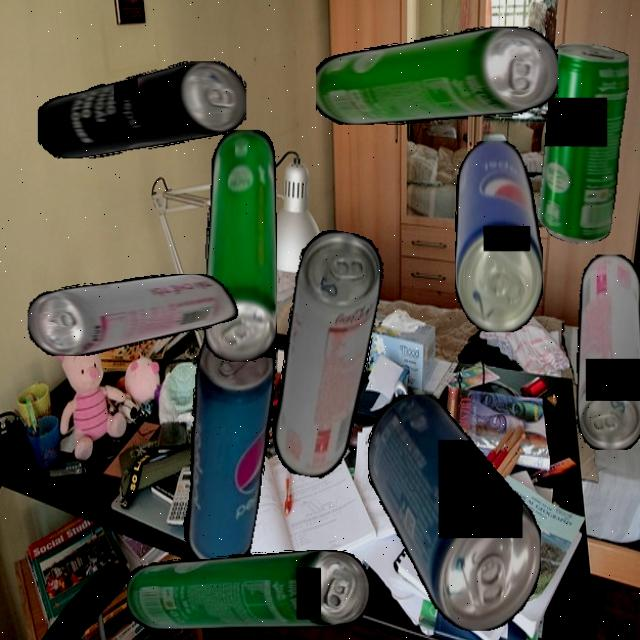debris: (367, 394, 541, 630), (262, 226, 390, 482), (165, 318, 288, 569), (315, 26, 558, 124), (37, 62, 246, 158), (126, 550, 369, 629), (538, 43, 629, 244), (202, 129, 277, 362), (28, 273, 238, 356), (454, 140, 543, 332), (575, 253, 640, 449)
